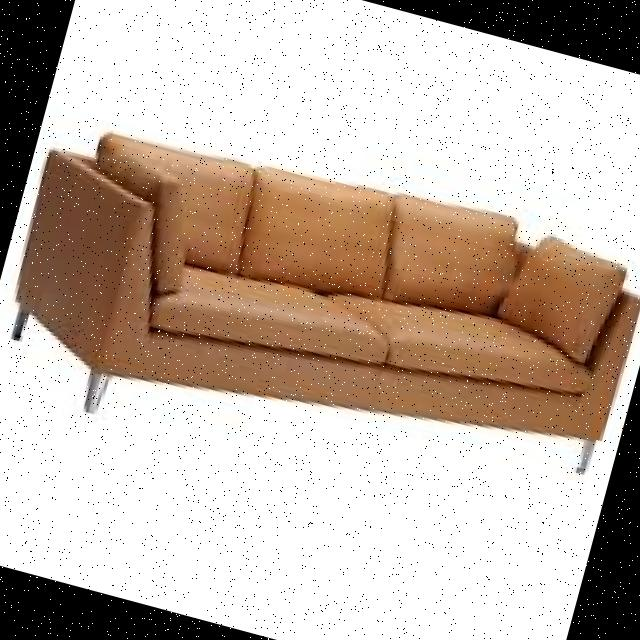Sofa: (0, 72, 640, 597)
